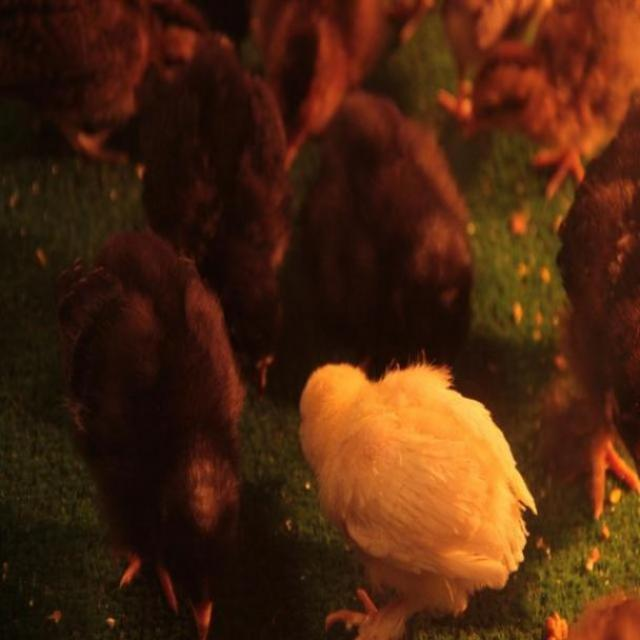Chicken: (56, 242, 253, 640)
